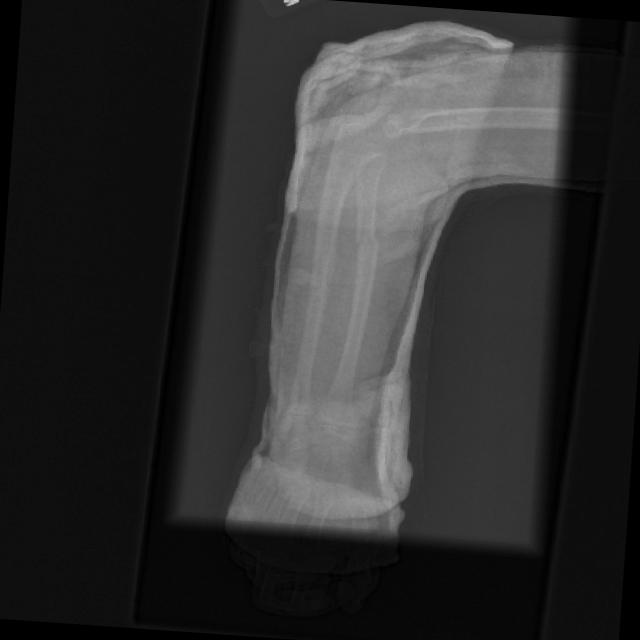forearm fracture: (339, 224, 395, 268)
